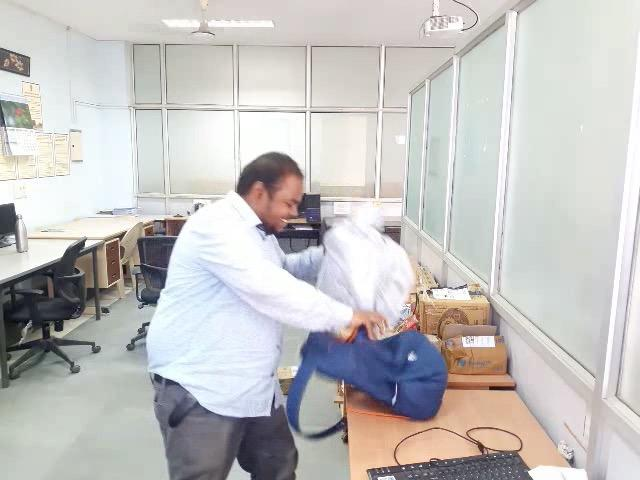shoplifting: (284, 199, 453, 424)
